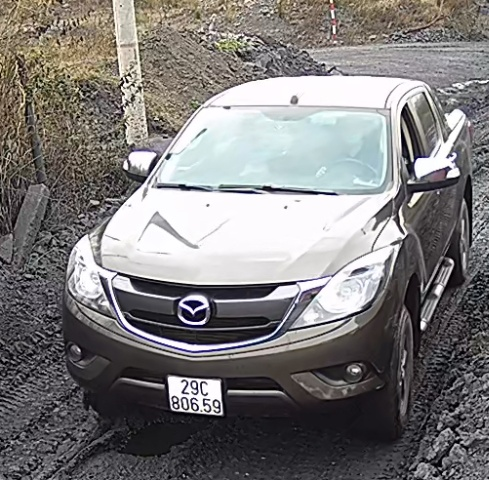vehicle plate: (161, 368, 224, 419)
